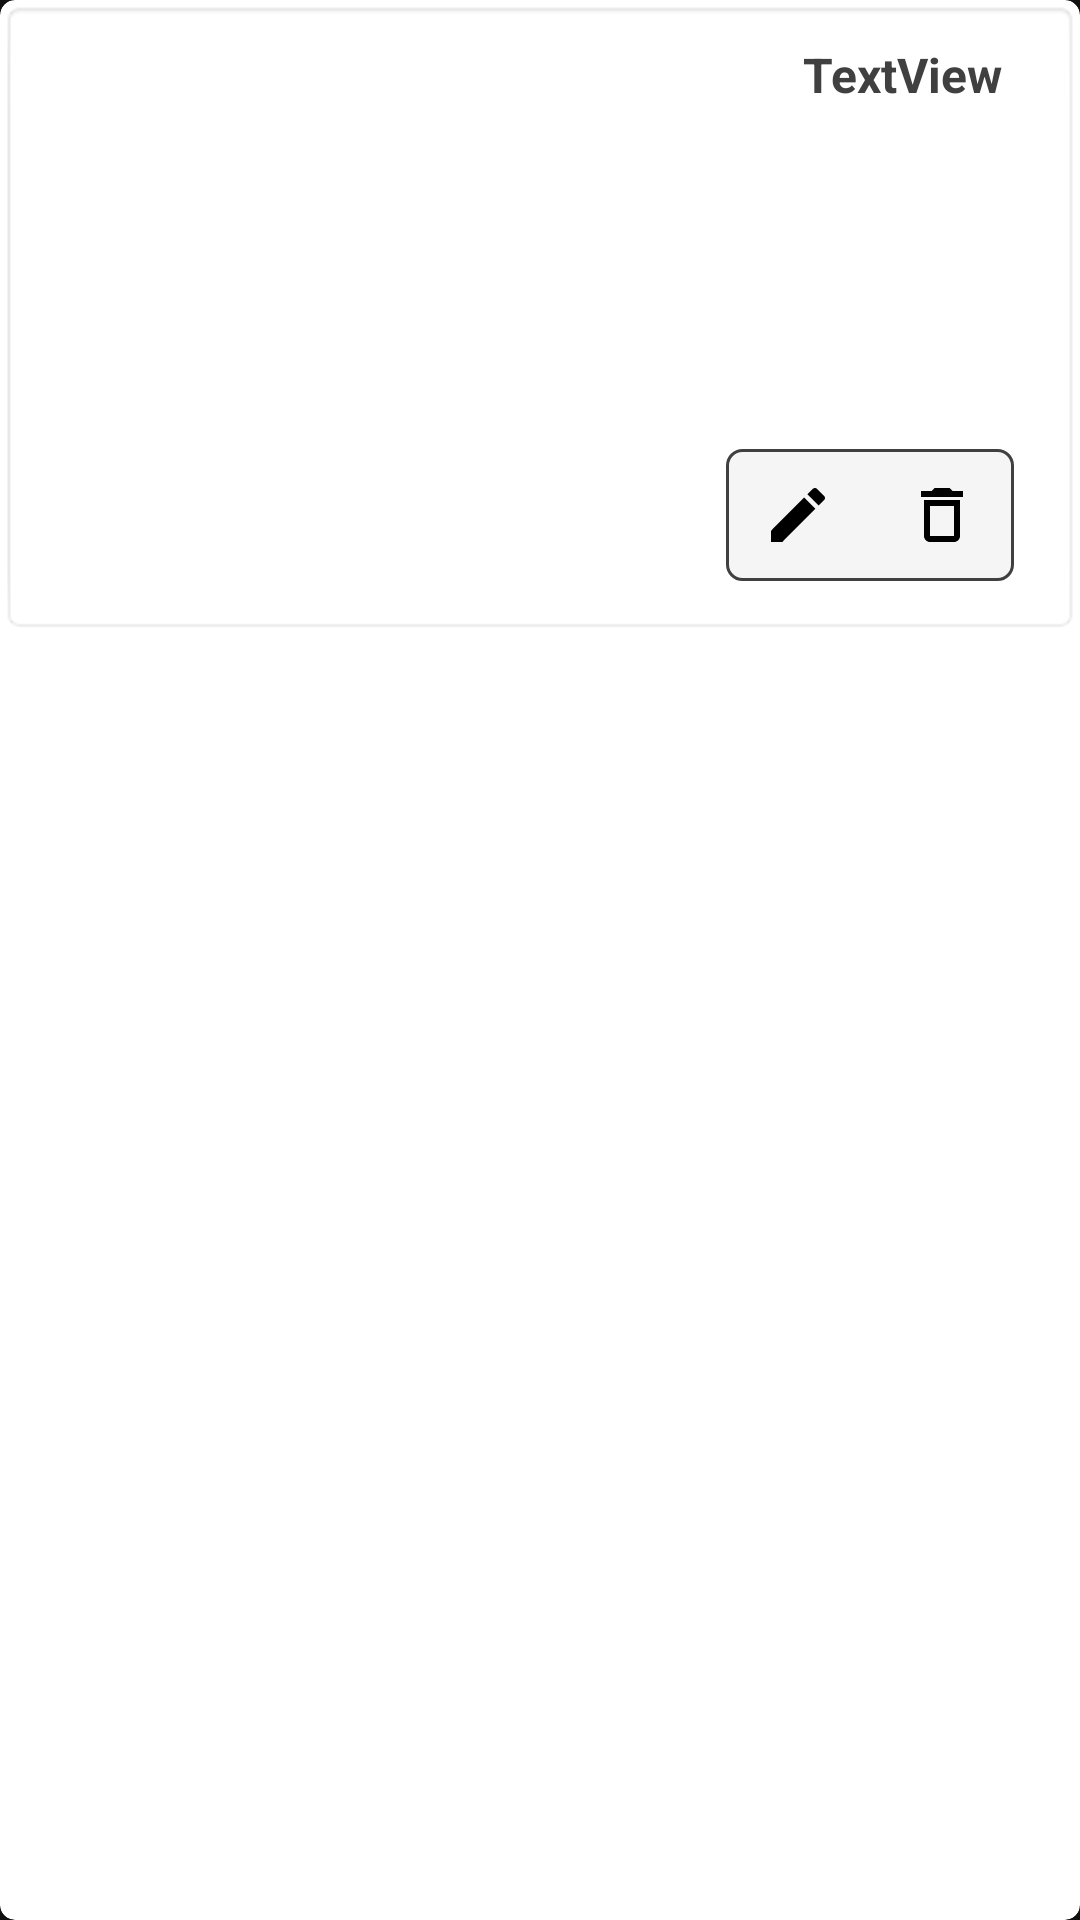

Icon click points for this 1080 x 1920 phone screenshot, format [x,y]:
delete: [942,515]
edit: [798,515]
